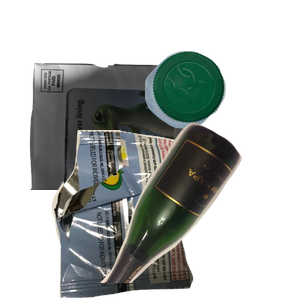glass: (87, 120, 300, 300)
paper: (27, 60, 223, 240)
plastic: (142, 48, 300, 169)
trash: (49, 130, 235, 300)
